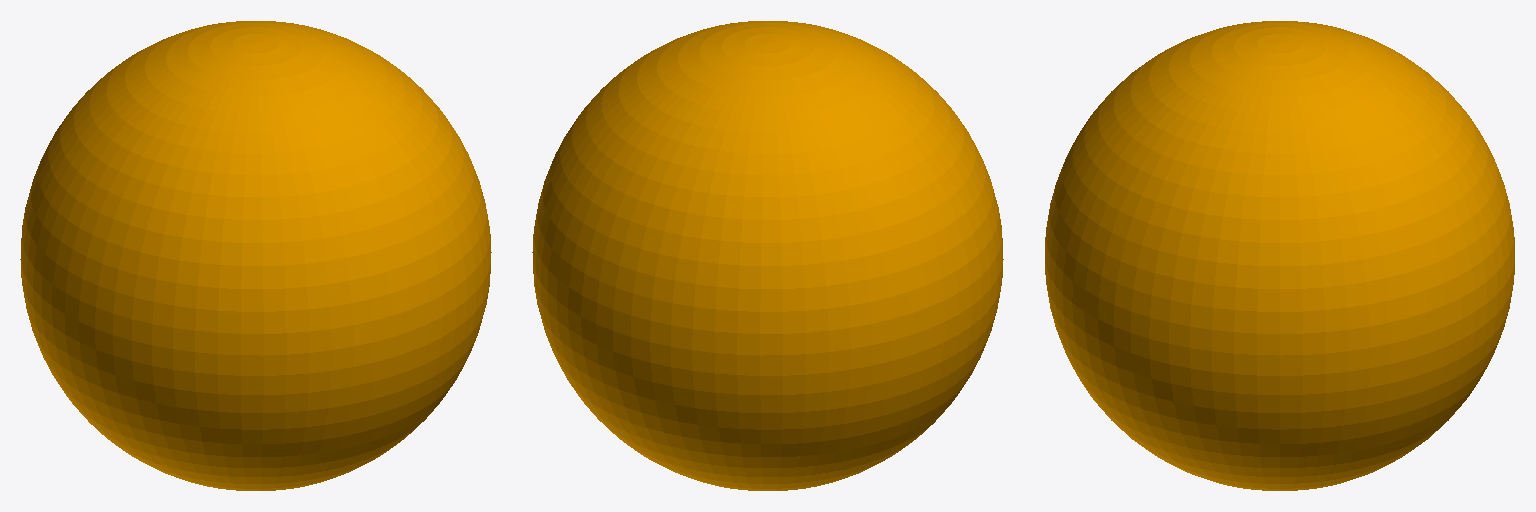
robot.urdf — cso_visualization:
<?xml version="1.0"?>
<robot name="cso_visualization">

    <material name="blue">
        <color rgba="0 0 0.8 1"/>
    </material>

    <link name="J2K">
        <visual>
            <geometry>
                <mesh filename="package://rospace_simulator/res/meshes/earth.DAE" scale="637100 637100 637100">
                </mesh>
            </geometry>
        </visual>
    </link>

    <link name="chaser">
        <visual>
            <geometry>
                <mesh filename="package://rospace_simulator/res/meshes/cso-mesh.stl" scale="1 1 1">
                </mesh>
            </geometry>
            <origin rpy="0 0 0" xyz="0 0 0"/>
        </visual>
    </link>

    <link name="target">
        <visual>
            <geometry>
                <box size="100 100 100"/>
            </geometry>
            <material name="blue" />
            <origin rpy="0 1.57075 0" xyz="0 0 0"/>
        </visual>
    </link>

    <joint name="target2J2K" type="fixed">
        <parent link="J2K"/>
        <child link="target"/>
        <origin xyz="0 0 0 "/>
    </joint>

    <joint name="chaser2J2K" type="fixed">
        <parent link="J2K"/>
        <child link="chaser"/>
        <origin xyz="0 0 0 "/>
    </joint>
</robot>

--- What the picture shows (computed from the rendered views, not written in the file) ---
The picture shows the robot from 3 angles, left to right: view 1: azimuth 30°, elevation 25°; view 2: azimuth 150°, elevation 25°; view 3: azimuth 270°, elevation 25°; orthographic projection.
Model cso_visualization with 3 links and 2 joints (2 fixed), rooted at J2K, posed all joints at 0.
Links seen in each view (by area): view 1: J2K; view 2: J2K; view 3: J2K.
Boxes of the visible links, <box> form: J2K: <box>20,21,491,490</box>; J2K: <box>532,21,1003,490</box>; J2K: <box>1045,21,1514,490</box>.
Bounding box of the posed robot: 12742006 × 12742013 × 12742000 m (x, y, z).
1 mesh visuals loaded from 2 distinct referenced files (1 Collada DAE); not drawn: 1 (reference not matched to a file when rendering).